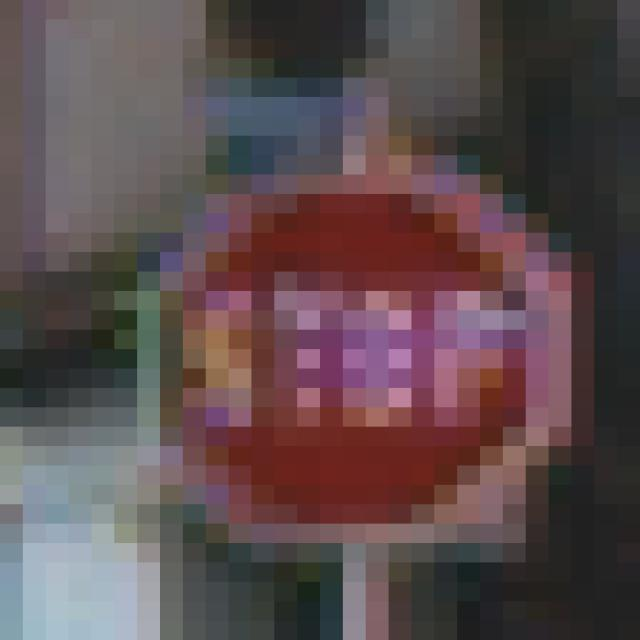STOP: (115, 117, 527, 525)
